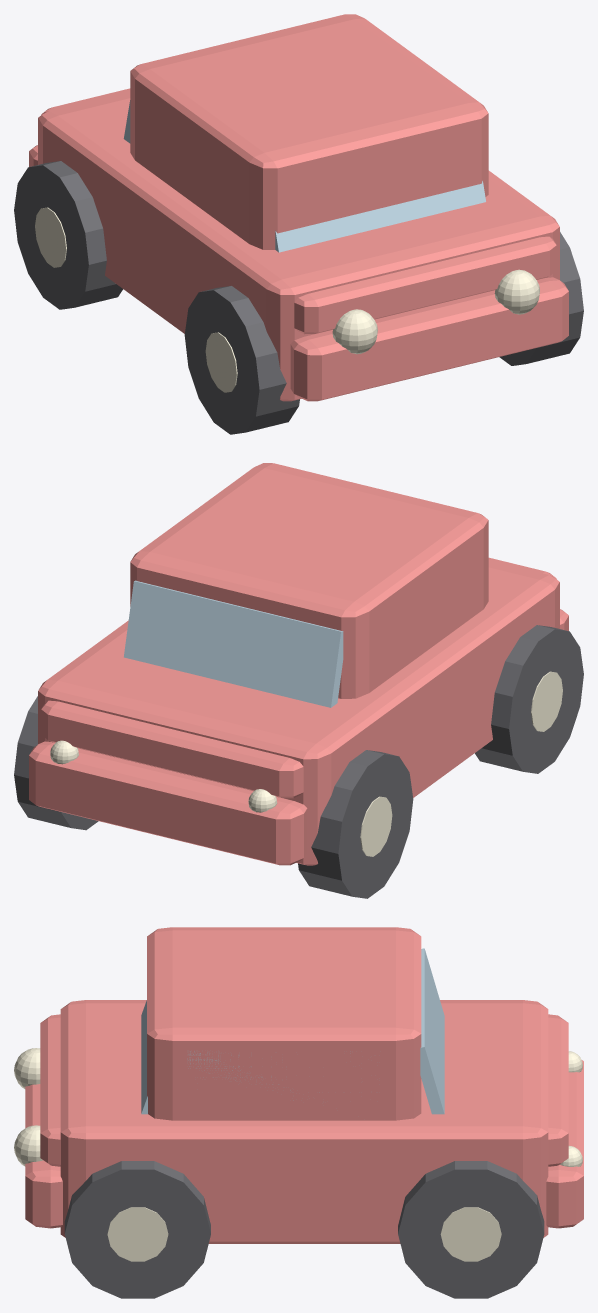
The model's file is car.glb.
3 views of the same model, one above another, from view 1: azimuth 30°, elevation 25°; view 2: azimuth 150°, elevation 25°; view 3: azimuth 270°, elevation 25° (orthographic). The views are drawn at different scales.
Parts seen in each view (by area): view 1: CarBody, WheelFL, WheelRL, CarLight, CarGlass, WheelFR; view 2: CarBody, CarGlass, WheelRL, WheelFL, CarLight, WheelRR; view 3: CarBody, WheelFR, WheelRR, CarLight, CarGlass.
Boxes of the visible parts, <box> form: CarBody: <box>29,14,568,401</box>; WheelFL: <box>184,286,299,434</box>; WheelRL: <box>14,161,122,309</box>; CarLight: <box>35,207,539,392</box>; CarGlass: <box>123,100,485,252</box>; WheelFR: <box>499,232,583,365</box>; CarBody: <box>29,463,568,865</box>; CarGlass: <box>124,580,343,707</box>; WheelRL: <box>298,750,413,898</box>; WheelFL: <box>475,625,583,773</box>; CarLight: <box>50,671,562,856</box>; WheelRR: <box>14,696,98,830</box>; CarBody: <box>25,927,583,1243</box>; WheelFR: <box>64,1161,210,1298</box>; WheelRR: <box>398,1161,544,1298</box>; CarLight: <box>14,1048,582,1261</box>; CarGlass: <box>141,948,444,1114</box>.
Size of the model in its own units: 1.81 by 1.32 by 2.81.
